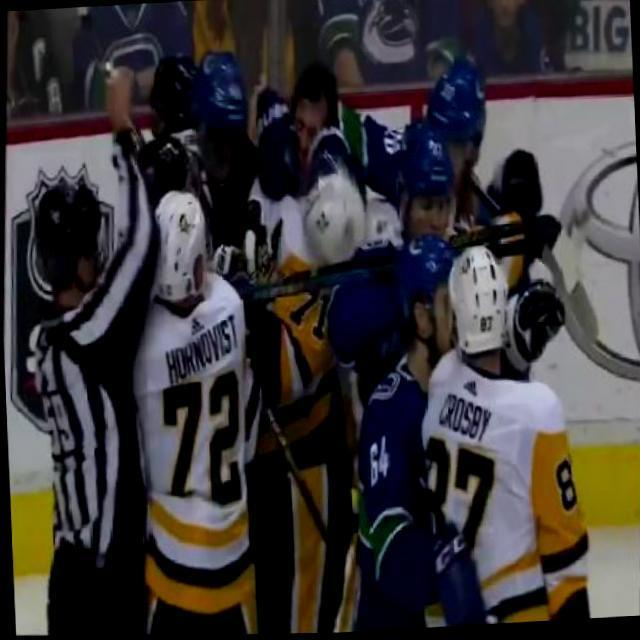fight: (14, 50, 375, 402)
